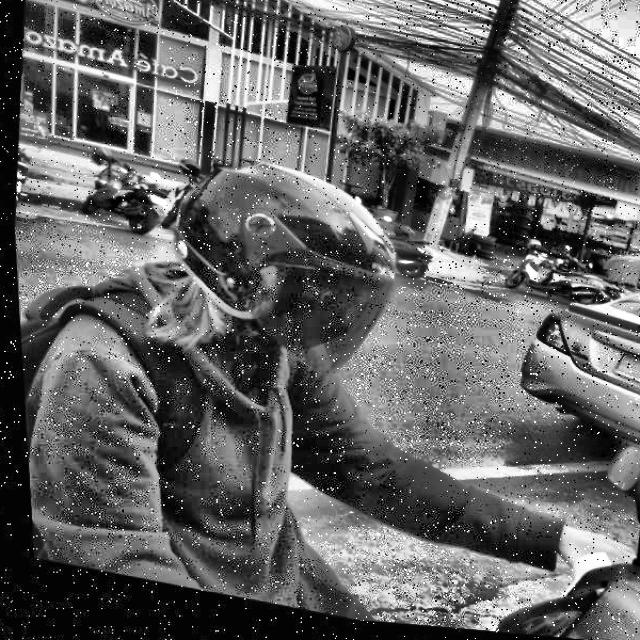Helmet: (149, 148, 414, 401)
